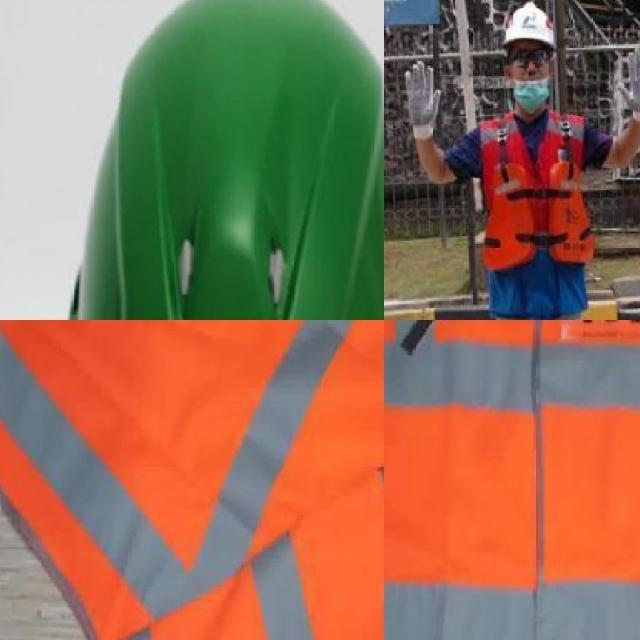apron: (404, 61, 442, 141), (616, 45, 640, 126)
